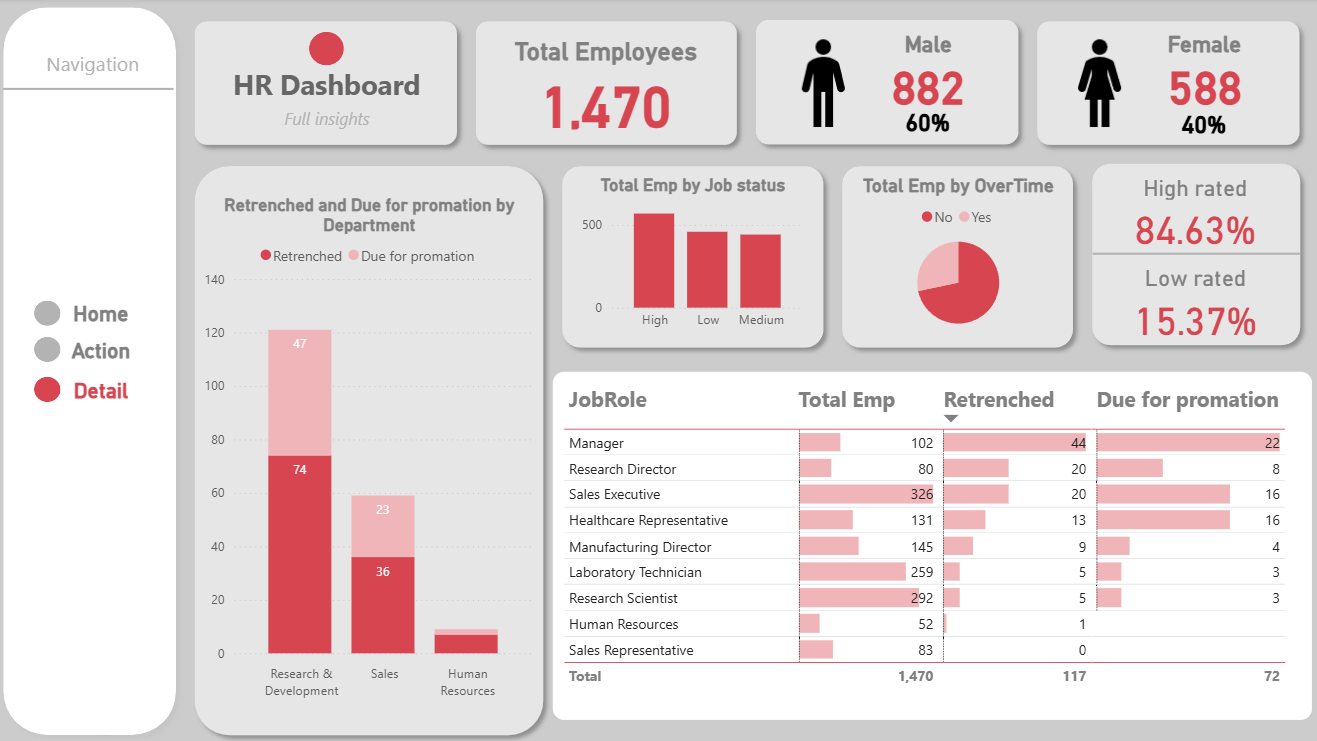

The dashboard page shown, as its layout file describes it:
{"tool":"powerbi","page":{"name":"Page 3","canvas":[1280,720],"ordinal":2},"visuals":[{"type":"shape","box":[0,0,184.6,720.2],"z":0},{"type":"shape","box":[726.3,12.2,271.5,138.2],"z":1000},{"type":"shape","box":[456.2,13.8,270,137.5],"z":2000},{"type":"shape","box":[997.5,13.8,271.2,137.5],"z":3000},{"type":"shape","box":[185,13.8,271.2,137.5],"z":4000},{"type":"textbox","box":[211.2,60,220,45],"z":5000},{"type":"textbox","box":[211.5,100.3,220.1,36.7],"z":6000},{"type":"shape","box":[303.8,32,33.8,32.5],"z":7000},{"type":"card","title":"Total Employees","fields":{"Values":["Dax functions.Total Emp"]},"box":[486.2,22.5,208.8,118.8],"z":8000},{"type":"card","title":"Male","fields":{"Values":["Dax functions.Male"]},"box":[801.2,12.5,201.2,106.2],"z":9000},{"type":"card","fields":{"Values":["Dax functions.% male"]},"box":[867.5,85,67.5,66.2],"z":10000},{"type":"image","box":[1017.5,31.2,100,101.2],"z":11000},{"type":"image","box":[750,31.2,100,101.2],"z":12000},{"type":"card","title":"Female","fields":{"Values":["Dax functions.Female"]},"box":[1067.5,12.5,201.2,106.2],"z":13000},{"type":"card","fields":{"Values":["Dax functions.% female"]},"box":[1133.8,86.2,67.5,66.2],"z":14000},{"type":"shape","box":[184.6,152.8,354.6,567.4],"z":15000},{"type":"columnChart","fields":{"Category":["HR Analytics Data.Department"],"Y":["Dax functions.Retrenched","Dax functions.Due for promation"]},"box":[198.1,189.5,328.9,494],"z":16000},{"type":"shape","box":[539.2,152.8,270.2,193.2],"z":17000},{"type":"columnChart","fields":{"Y":["Dax functions.Total Emp"],"Category":["HR Analytics Data.Job status"]},"box":[562.5,170,225,159],"z":18000},{"type":"shape","box":[809.5,152.8,240.9,193.2],"z":19000},{"type":"shape","box":[1050.4,150.4,218.9,193.2],"z":20000},{"type":"pieChart","fields":{"Y":["Dax functions.Total Emp"],"Category":["HR Analytics Data.OverTime"]},"box":[833.9,170,194.4,159],"z":21000},{"type":"card","title":"High rated","fields":{"Values":["Dax functions.% High rating"]},"box":[1058.9,150.4,200.5,106.4],"z":22000},{"type":"card","title":"Low rated","fields":{"Values":["Dax functions.% Low rating"]},"box":[1058.9,237.2,200.5,108.8],"z":23000},{"type":"shape","box":[1060.1,239.7,200.5,13.5],"z":24000},{"type":"tableEx","fields":{"Values":["HR Analytics Data.JobRole","Dax functions.Total Emp","Dax functions.Retrenched","Dax functions.Due for promation"]},"box":[539.2,360.7,732.4,336.3],"z":25000},{"type":"actionButton","box":[52.6,283.7,100.3,41.6],"z":26000},{"type":"actionButton","box":[52.6,320.4,100.3,37.9],"z":27000},{"type":"actionButton","box":[52.6,360.7,100.3,35.5],"z":28000},{"type":"shape","box":[39.1,292.2,25.7,24.5],"z":29000},{"type":"shape","box":[39.1,326.5,25.7,24.5],"z":30000},{"type":"shape","box":[39.1,365.6,25.7,24.5],"z":31000},{"type":"shape","box":[8.6,66,165.1,42.8],"z":32000},{"type":"textbox","box":[8.6,45.2,173.6,39.1],"z":33000}]}

Visuals, with their boxes in screenshot pixels (x1, y1, x2, y2), scaled from the page's 1280x720 canvas onto the 1317x741 screenshot:
shape: 0:0:190:740
shape: 747:13:1027:155
shape: 469:14:747:156
shape: 1026:14:1305:156
shape: 190:14:469:156
textbox: 217:62:444:108
textbox: 218:103:444:141
shape: 313:33:347:66
"Total Employees" card: 500:23:715:145
"Male" card: 824:13:1031:122
card - Dax functions.% male: 893:87:962:156
image: 1047:32:1150:136
image: 772:32:875:136
"Female" card: 1098:13:1305:122
card - Dax functions.% female: 1167:89:1236:157
shape: 190:157:555:740
columnChart - HR Analytics Data.Department x Dax functions.Retrenched: 204:195:542:703
shape: 555:157:833:356
columnChart - Dax functions.Total Emp x HR Analytics Data.Job status: 579:175:810:339
shape: 833:157:1081:356
shape: 1081:155:1306:354
pieChart - Dax functions.Total Emp x HR Analytics Data.OverTime: 858:175:1058:339
"High rated" card: 1090:155:1296:264
"Low rated" card: 1090:244:1296:356
shape: 1091:247:1297:261
tableEx - HR Analytics Data.JobRole x Dax functions.Total Emp: 555:371:1308:717
actionButton: 54:292:157:335
actionButton: 54:330:157:369
actionButton: 54:371:157:408
shape: 40:301:67:326
shape: 40:336:67:361
shape: 40:376:67:401
shape: 9:68:179:112
textbox: 9:47:187:87
